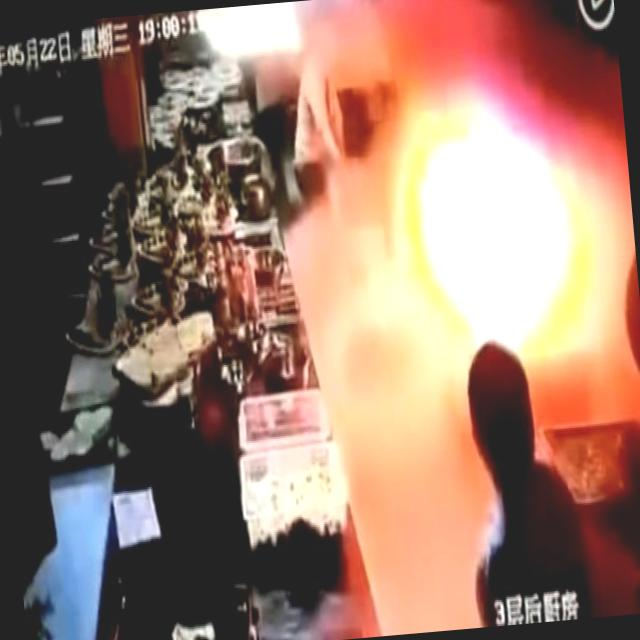fire: (387, 84, 612, 359)
